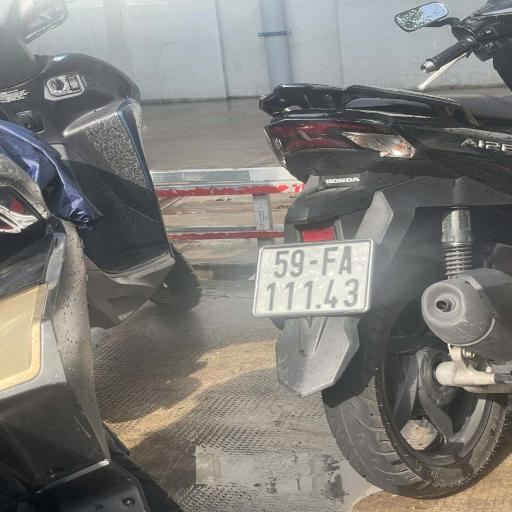1: (277, 274, 301, 319), (300, 275, 318, 323), (260, 284, 285, 318)
3: (342, 273, 373, 320)
4: (322, 274, 344, 317)
5: (272, 245, 288, 283)
9: (286, 248, 304, 284)
A: (340, 242, 362, 285)
F: (317, 244, 341, 276)
